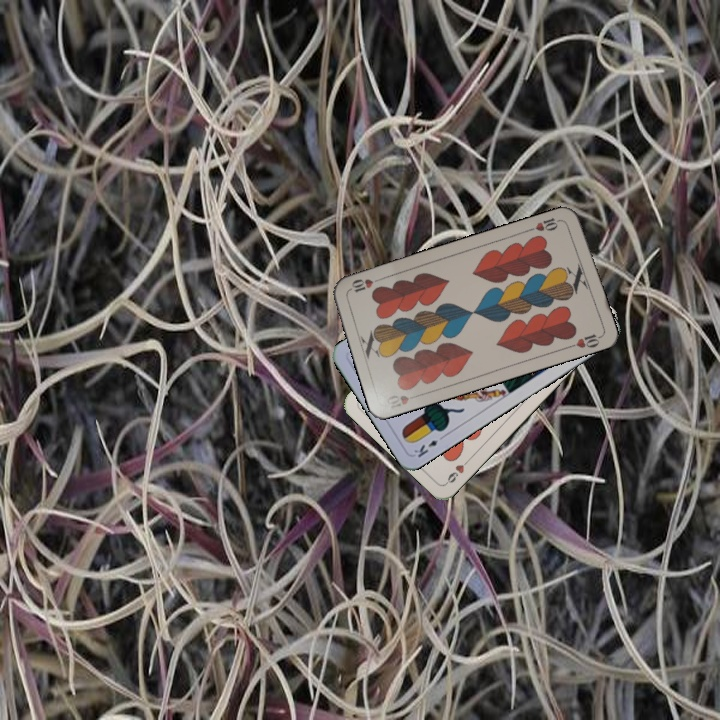EK: (410, 431, 448, 460)
H10: (382, 390, 423, 412), (525, 213, 565, 234)
H9: (442, 453, 473, 486)
